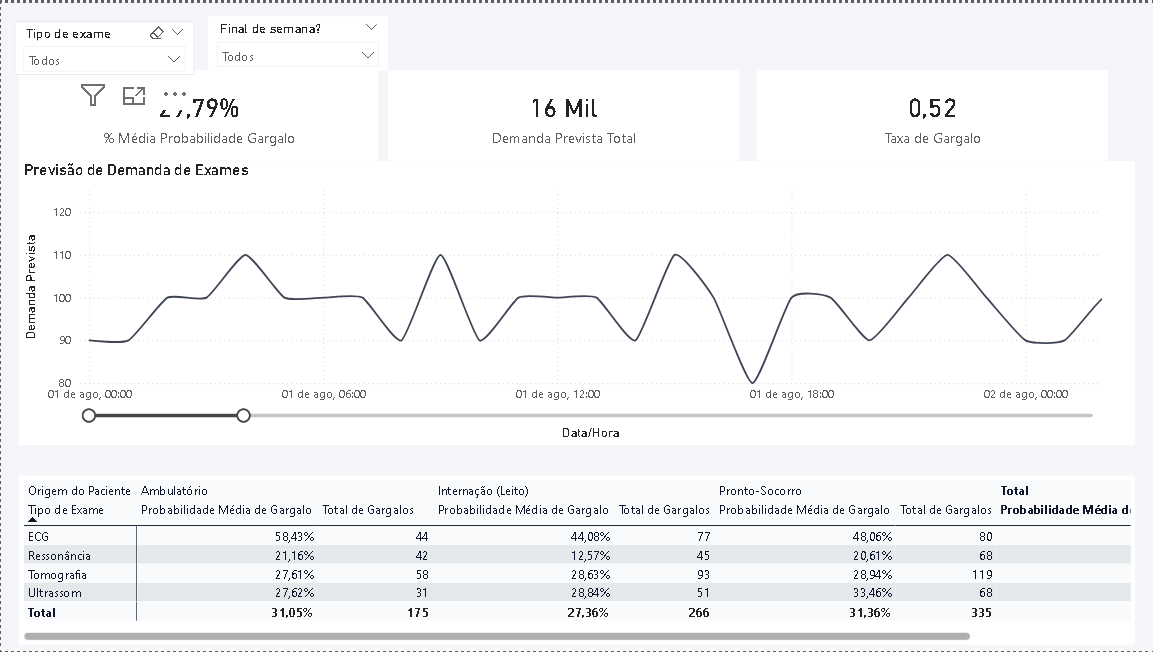

Layout of this report page (visuals, bound fields, positions):
{"tool":"powerbi","page":{"name":"Exames_Diagnósticos","canvas":[1280,720],"ordinal":0},"visuals":[{"type":"card","fields":{"Values":["risk_predictions.% Média Probabilidade Gargalo"]},"box":[20,75,399,100],"z":0},{"type":"card","fields":{"Values":["risk_predictions.Taxa de Gargalo"]},"box":[840,75,390,100],"z":1000},{"type":"card","fields":{"Values":["risk_predictions.Demanda Prevista Total"]},"box":[430,75,390,100],"z":2000},{"type":"lineChart","title":"Previsão de Demanda de Exames","fields":{"Y":["Sum(processed_predictions.demanda_prevista_exames)"],"Category":["processed_predictions.data_hora"]},"box":[20,175,1240,315],"z":3000},{"type":"pivotTable","fields":{"Rows":["risk_predictions.tipo_exame"],"Columns":["risk_predictions.origem_paciente"],"Values":["risk_predictions.% Média Probabilidade Gargalo","risk_predictions.Total Gargalos Reais"]},"box":[20,525,1240,188],"z":4000},{"type":"slicer","fields":{"Values":["risk_predictions.tipo_exame"]},"box":[15,20,200,60],"z":5000},{"type":"slicer","fields":{"Values":["risk_predictions.is_final_semana"]},"box":[230,15,200,60],"z":6000}]}

Visuals, with their boxes in screenshot pixels (x1, y1, x2, y2), scaled from the page's 1280x720 canvas onto the 1153x652 screenshot:
card - risk_predictions.% Média Probabilidade Gargalo: locate(18, 68, 377, 158)
card - risk_predictions.Taxa de Gargalo: locate(757, 68, 1108, 158)
card - risk_predictions.Demanda Prevista Total: locate(387, 68, 739, 158)
"Previsão de Demanda de Exames" lineChart: locate(18, 158, 1135, 444)
pivotTable - risk_predictions.tipo_exame x risk_predictions.origem_paciente: locate(18, 475, 1135, 646)
slicer - risk_predictions.tipo_exame: locate(14, 18, 194, 72)
slicer - risk_predictions.is_final_semana: locate(207, 14, 387, 68)
